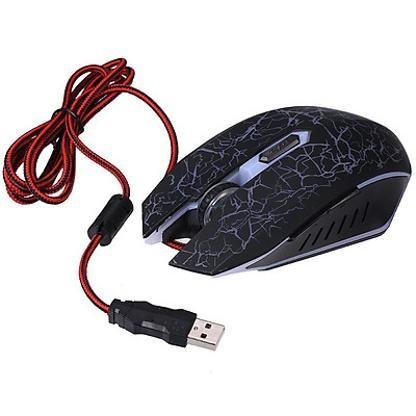not trash: (138, 101, 414, 278), (105, 297, 224, 349)
